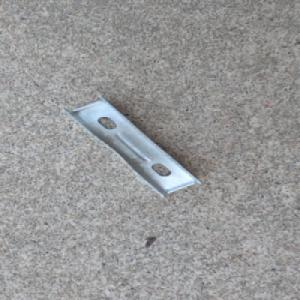ClampPart: (62, 97, 203, 196)
